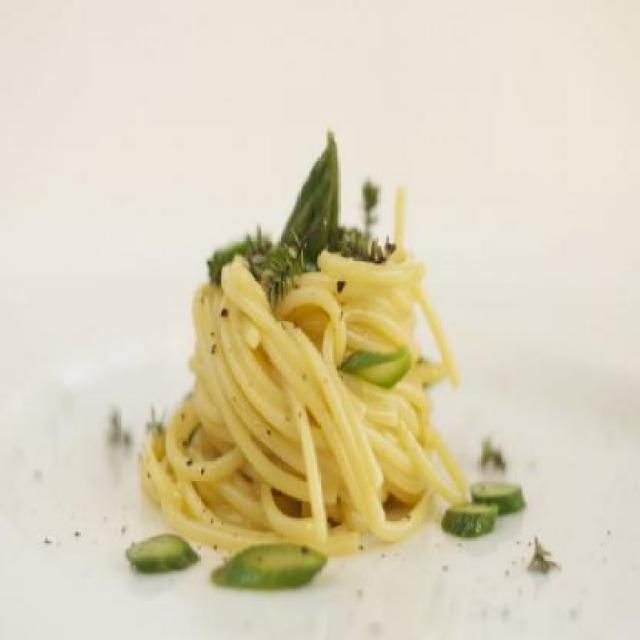Pasta with carbonara sauce: (141, 65, 561, 618)
